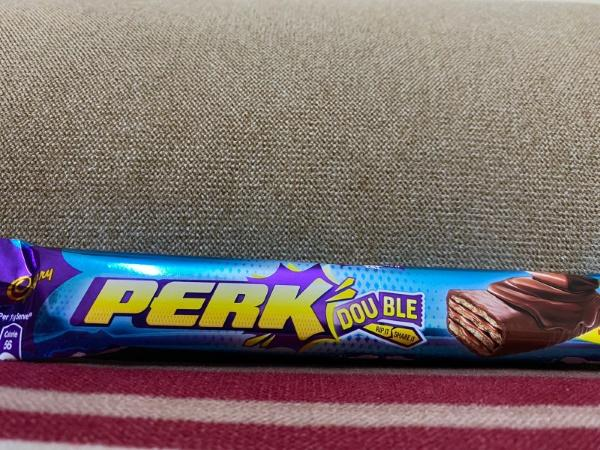Perk: (9, 225, 600, 385)
